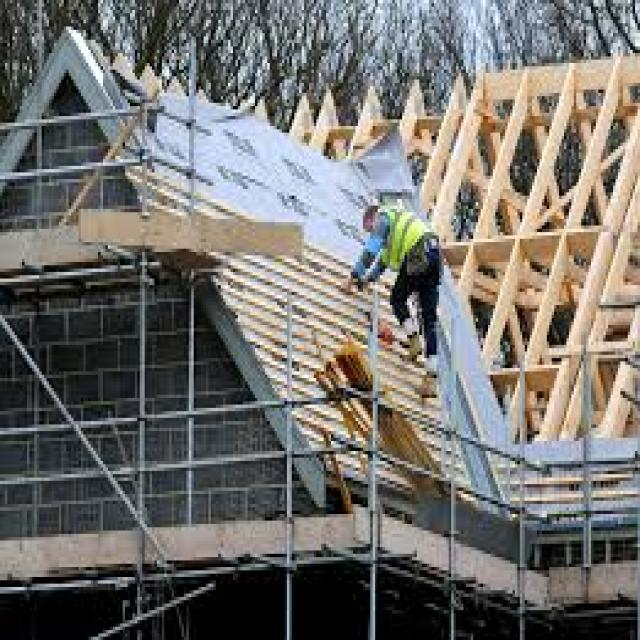Reflective-Jacket: (375, 199, 449, 285)
Safety-Helmet: (358, 189, 385, 226)
